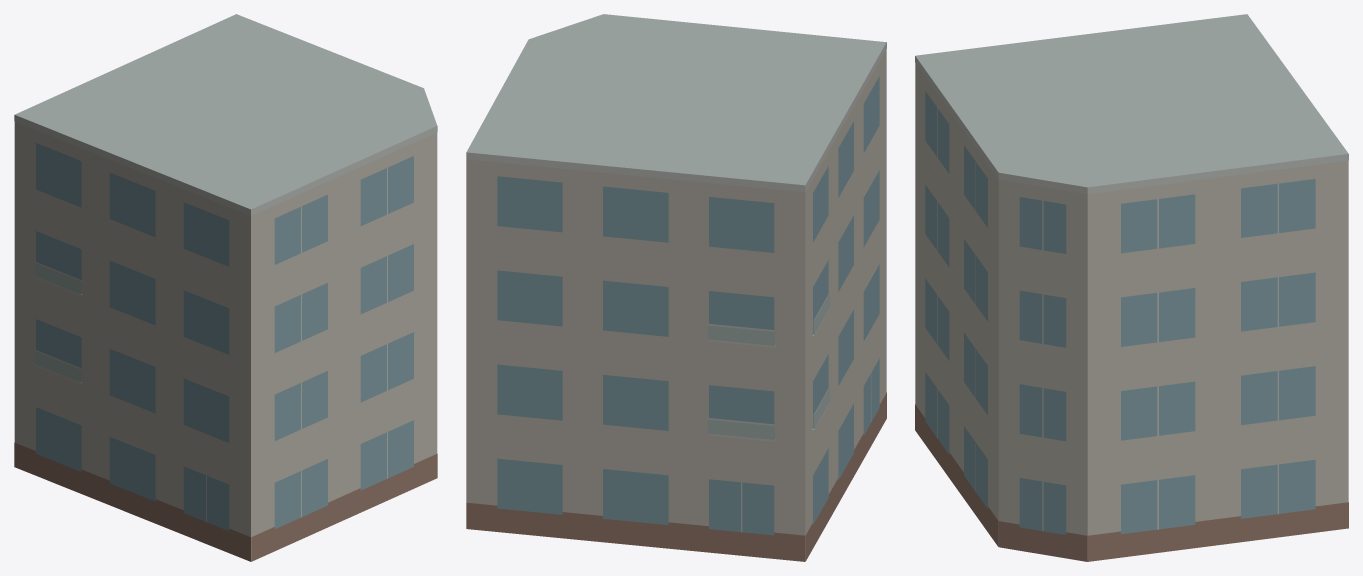
The model's file is survey-upis-33042122.glb.
3 renders of one model, left to right at view 1: azimuth 30°, elevation 25°; view 2: azimuth 150°, elevation 25°; view 3: azimuth 270°, elevation 25°, orthographic. The views are drawn at different scales.
Visible parts, largest first — view 1: survey-upis-33042122.tmp; view 2: survey-upis-33042122.tmp; view 3: survey-upis-33042122.tmp.
Boxes of the visible parts, bbox=[...] form: survey-upis-33042122.tmp: bbox=[14, 14, 437, 561]; survey-upis-33042122.tmp: bbox=[466, 14, 886, 561]; survey-upis-33042122.tmp: bbox=[915, 14, 1348, 561].
Bounding box in the file's own units: 13.06 × 13.15 × 13.81.
